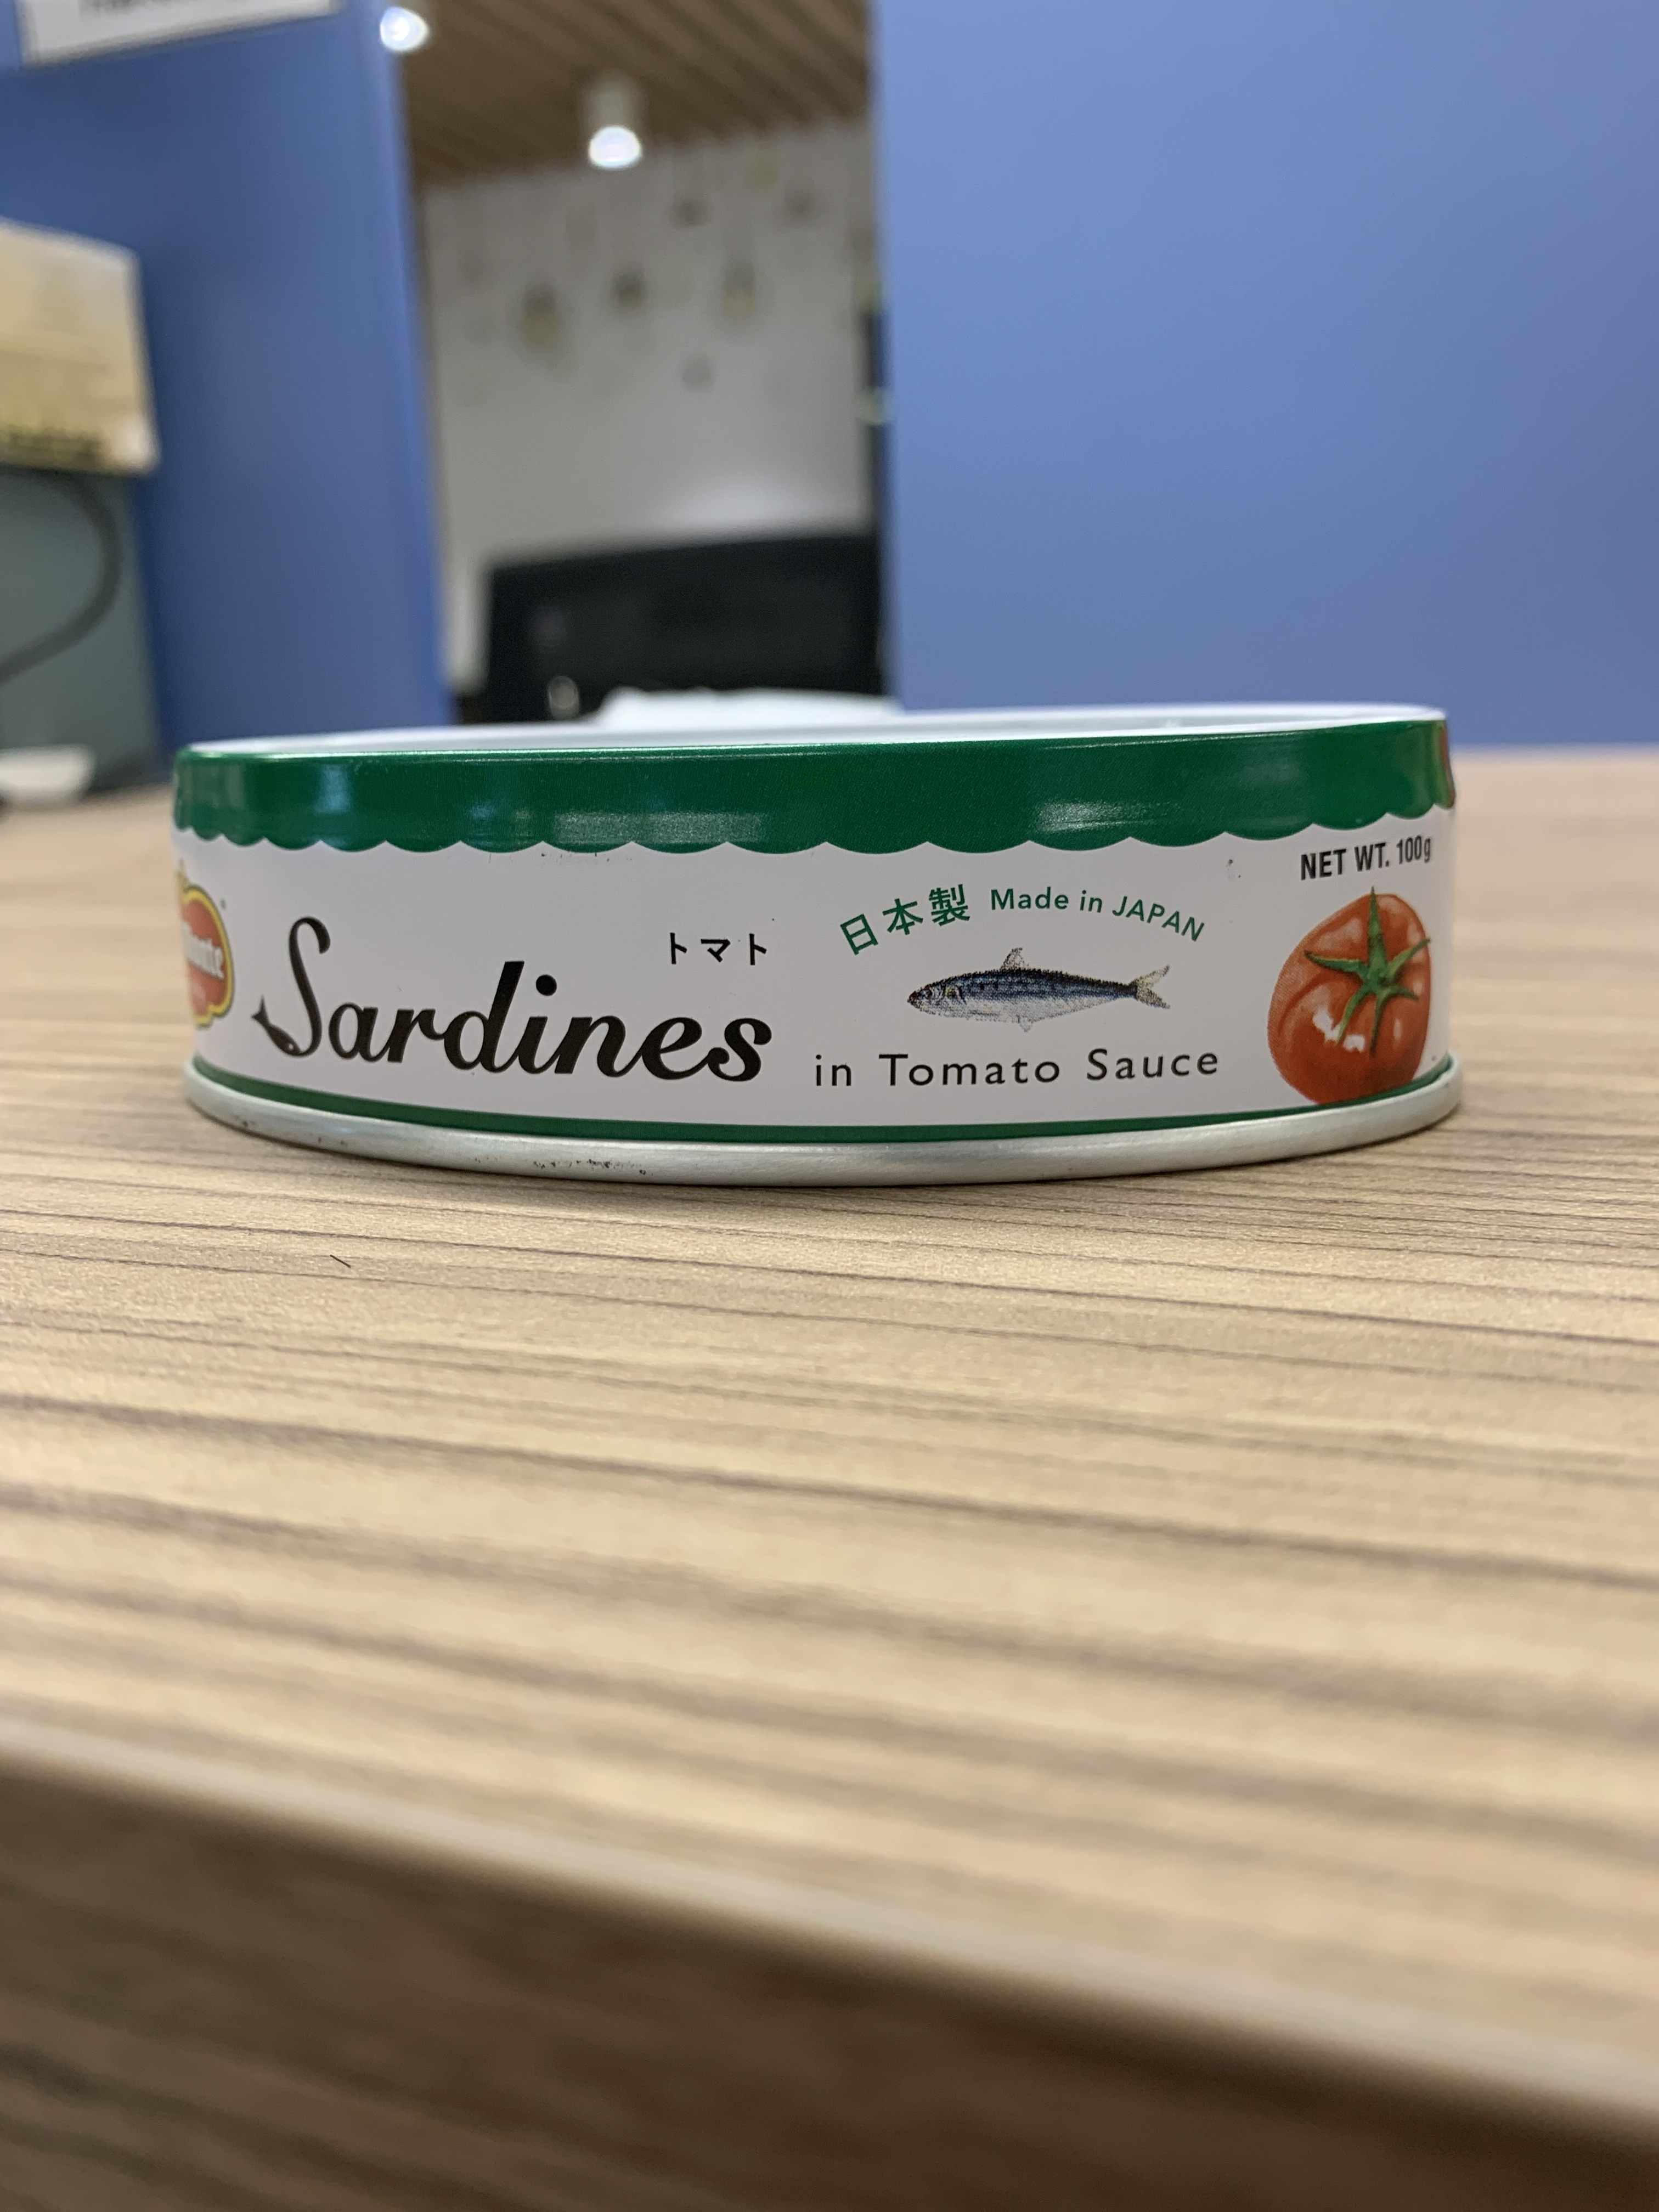sardines_100g-199g: (190, 730, 1476, 1116)
